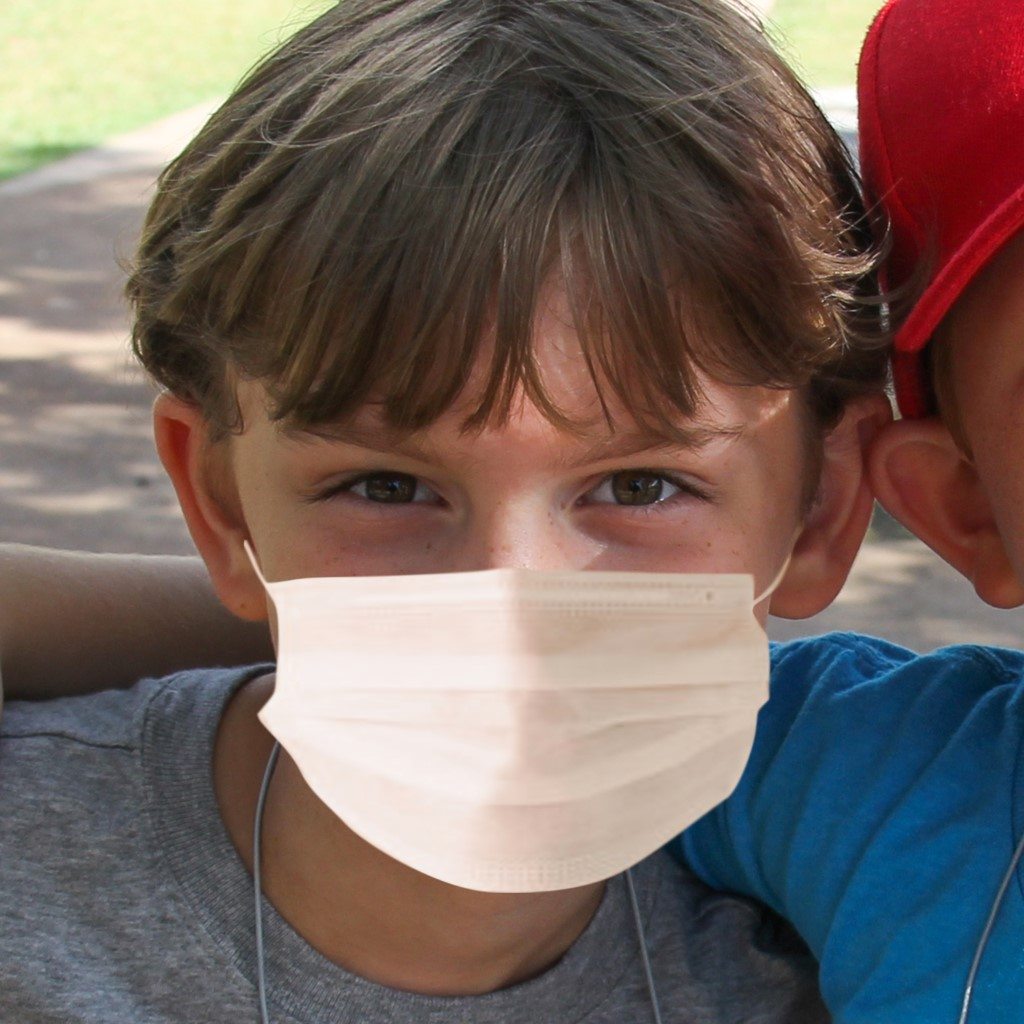con_mascara: (205, 264, 853, 872)
